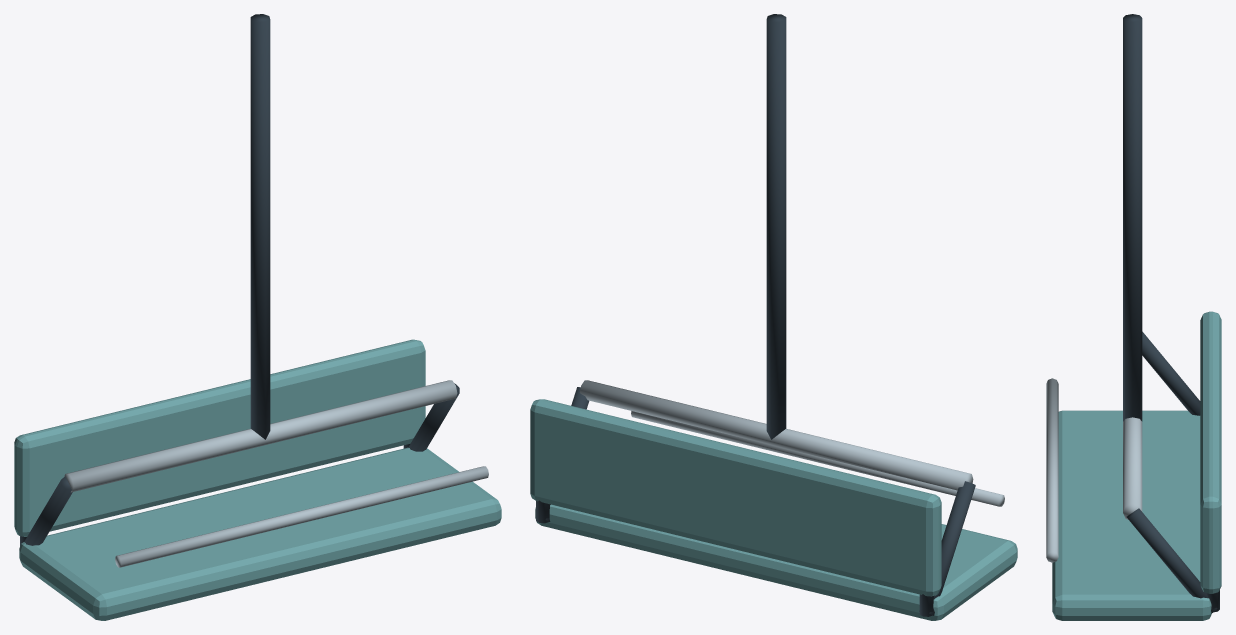
File: LiftChair.fbx
3 renders of one model, left to right at view 1: azimuth 30°, elevation 25°; view 2: azimuth 150°, elevation 25°; view 3: azimuth 270°, elevation 25°, orthographic. The views are drawn at different scales.
Visible parts, largest first — view 1: Visual_LiftChair; view 2: Visual_LiftChair; view 3: Visual_LiftChair.
Part boxes in pixels (left/top/right/bottom): Visual_LiftChair: left=14, top=14, right=501, bottom=620; Visual_LiftChair: left=530, top=14, right=1017, bottom=620; Visual_LiftChair: left=1046, top=14, right=1221, bottom=620.
Size of the model in its own units: 2.55 by 3.16 by 0.985.
